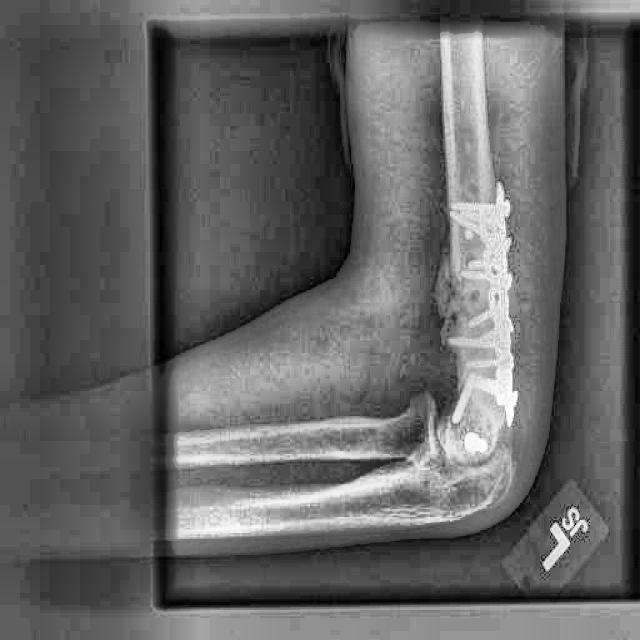elbow positive: (451, 443, 524, 525)
